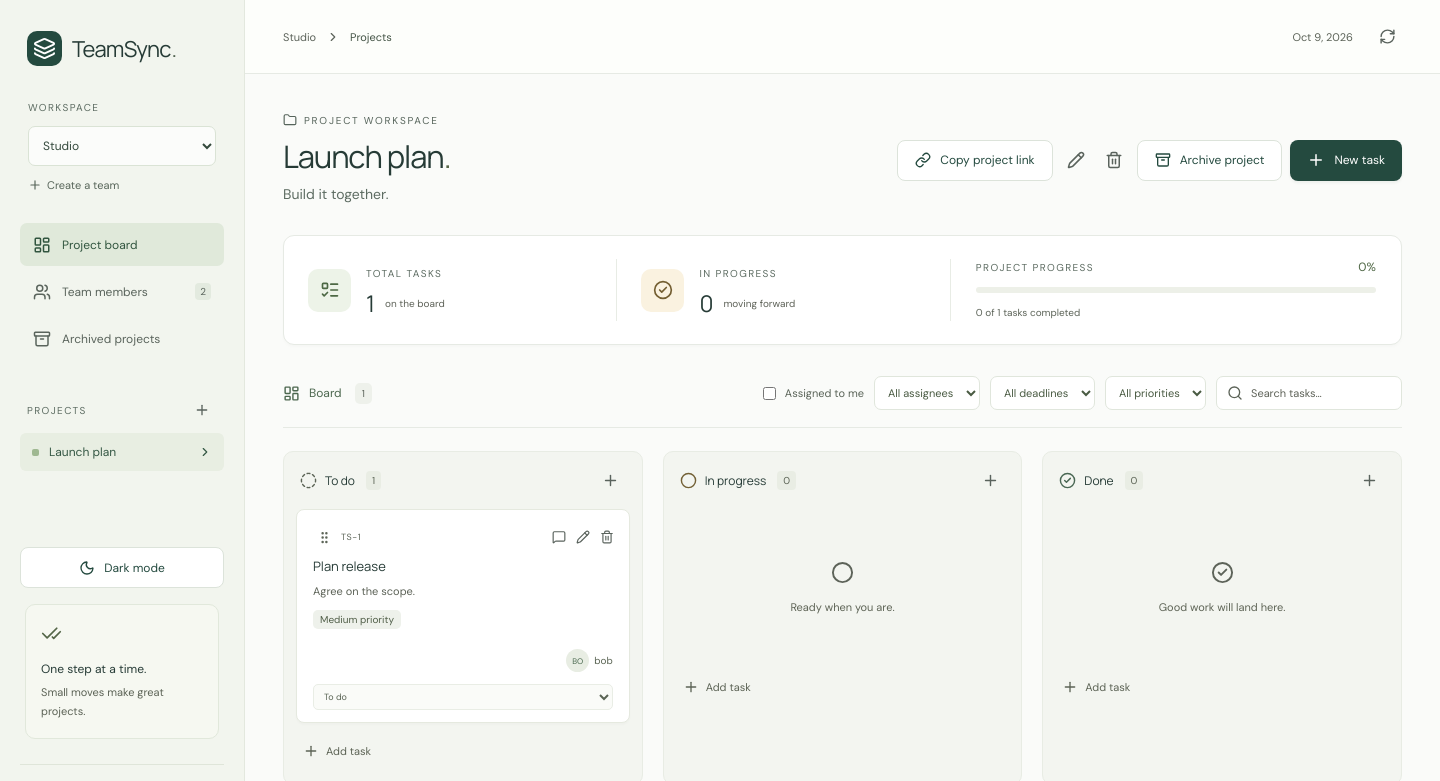
it: requires confirmation before deleting a task
Expected: the heading "Launch plan." is shown, [283,136,450,176]
Click the button named "Delete Plan release" at [607, 537], box [595,525,619,549]
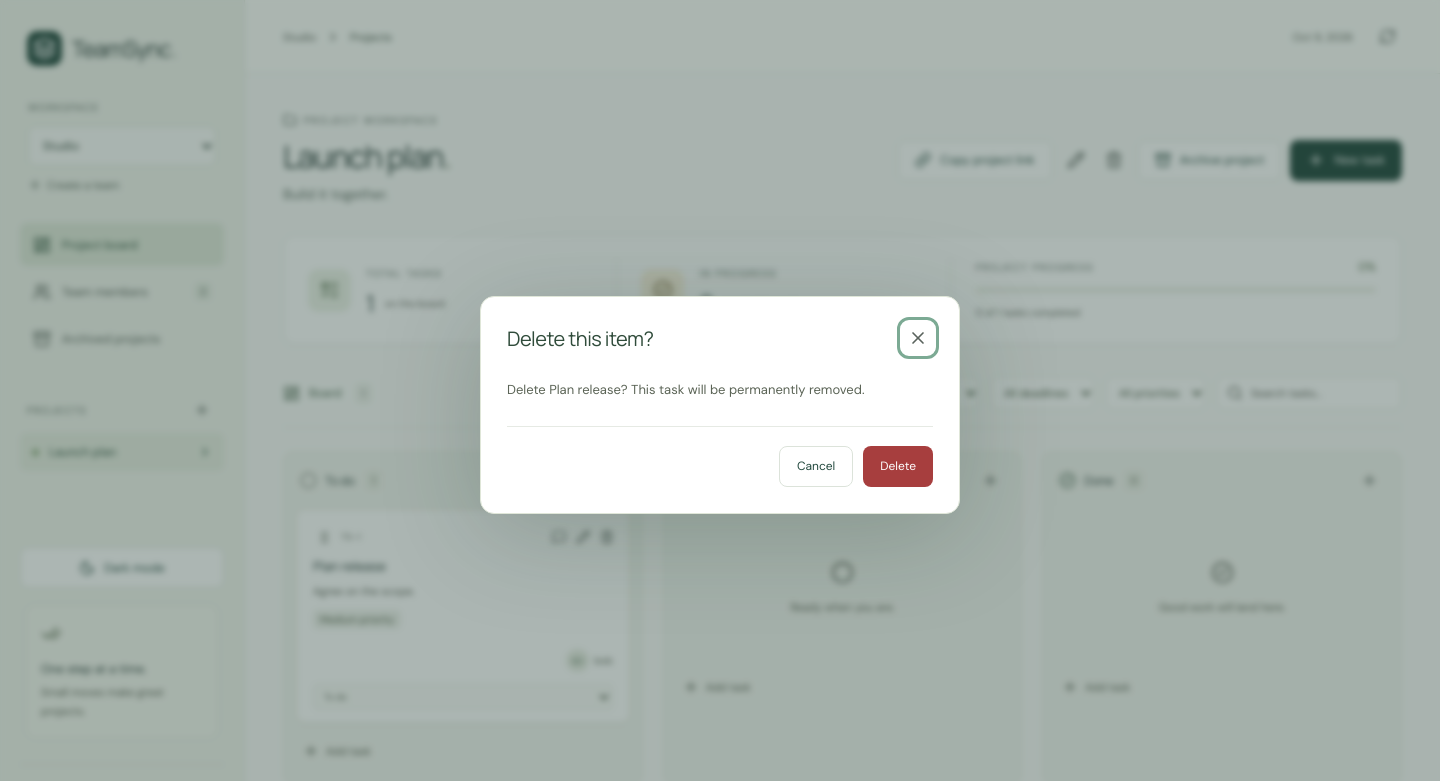
Click the button "Delete" at [898, 466], box [863,446,933,487]
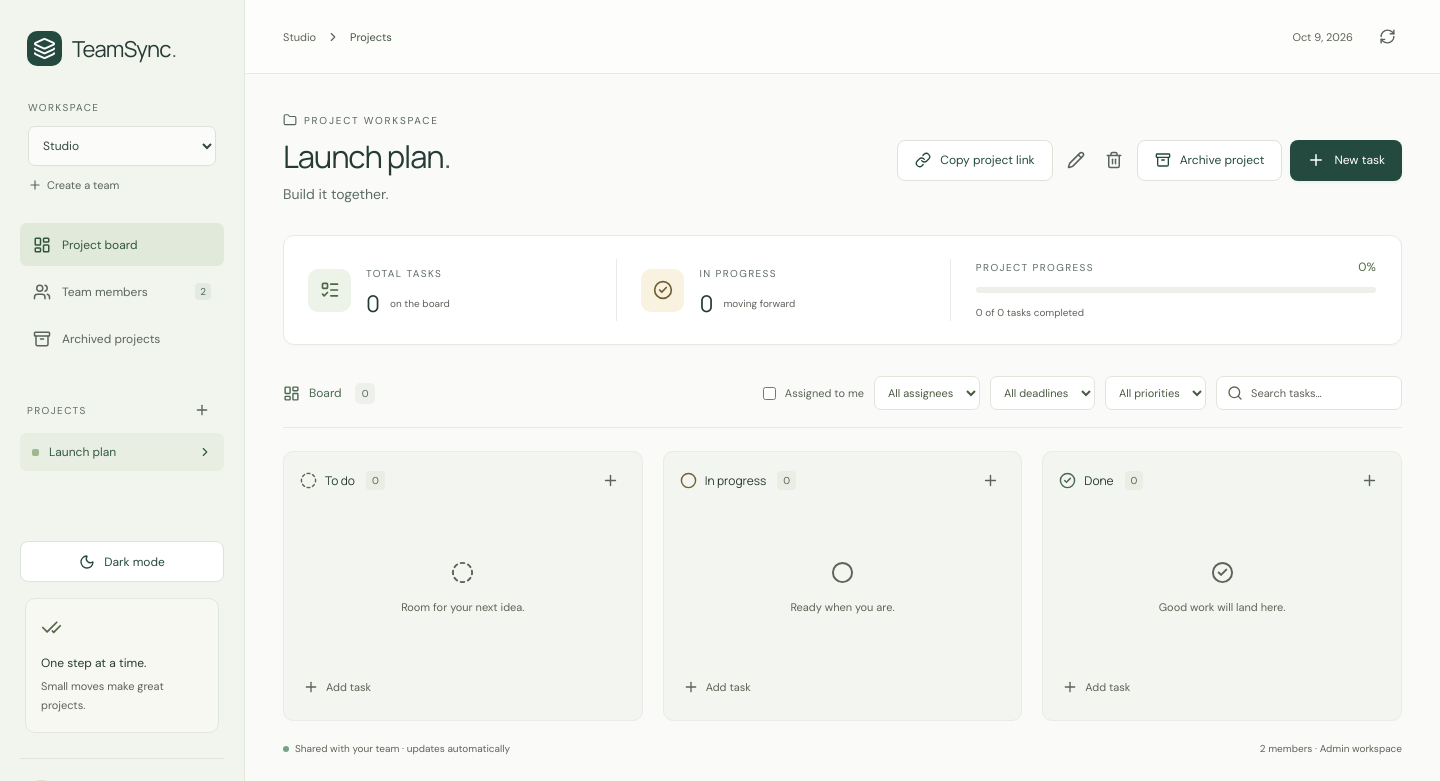
Expected: the heading "Plan release" is gone
